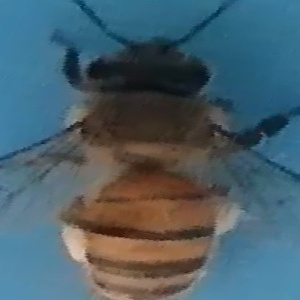bee: (48, 1, 290, 300)
